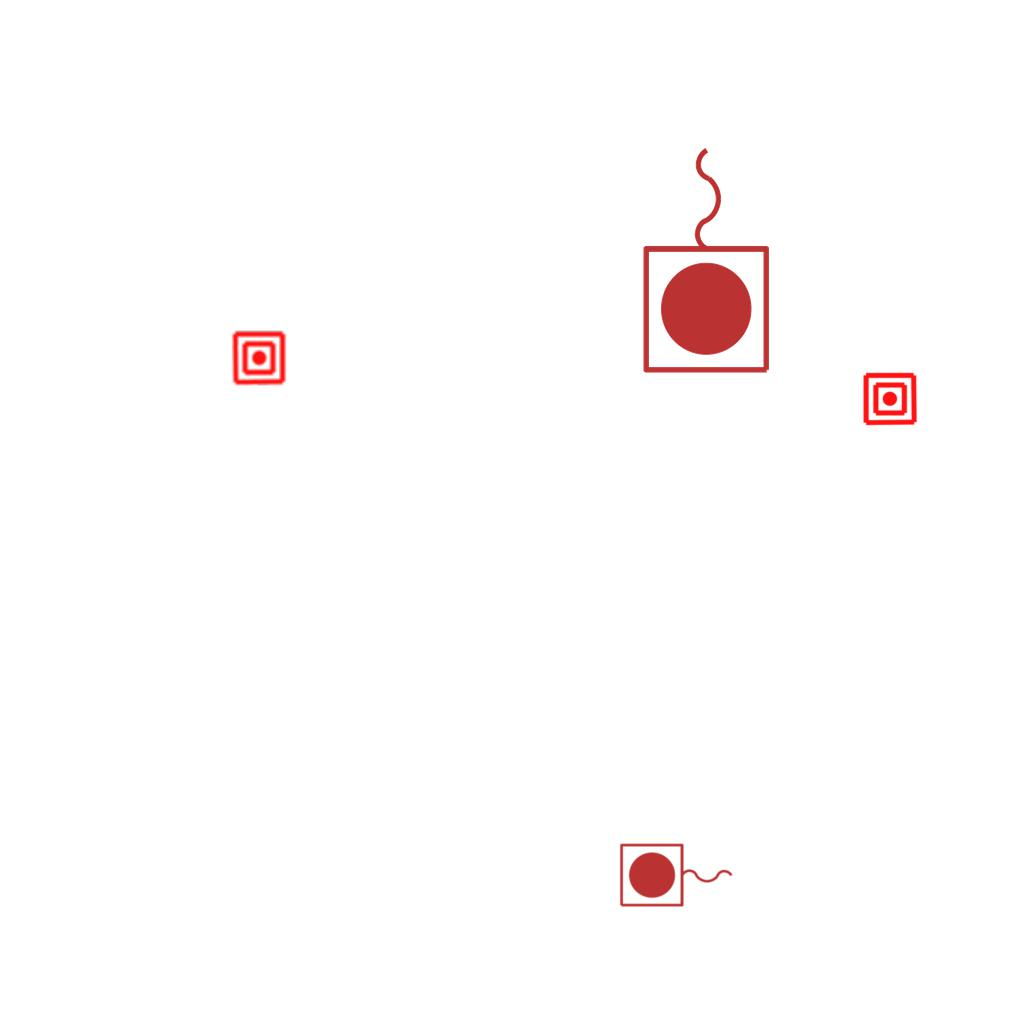NAM-Nichtautomatischer_Melder: (231, 330, 287, 386), (862, 371, 918, 427)
Zugtaster: (636, 137, 780, 381), (616, 840, 738, 912)
